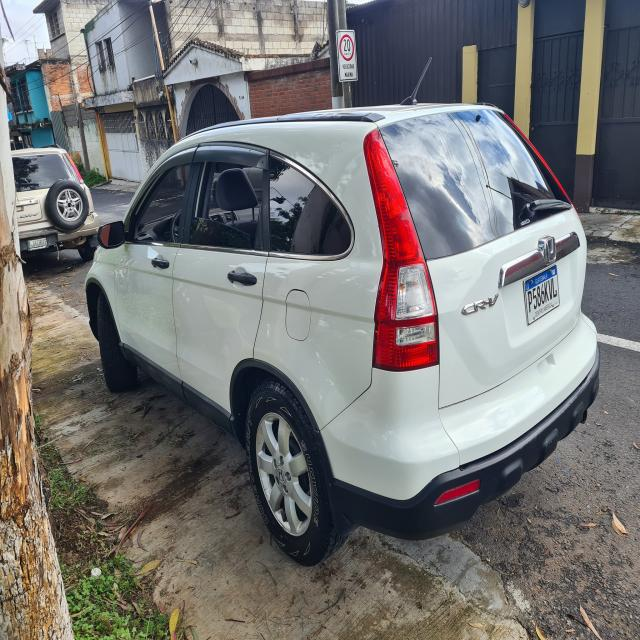Placas: (522, 262, 562, 327)
